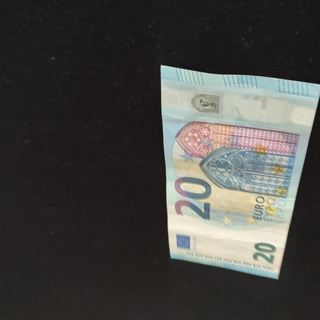20EUROFront: (159, 63, 320, 280)
